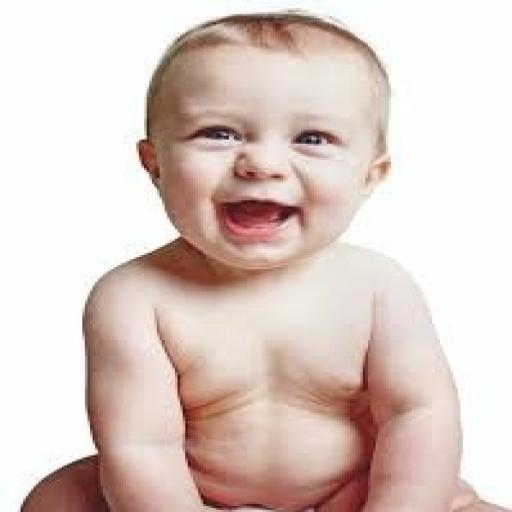laughing: (13, 4, 509, 510)
